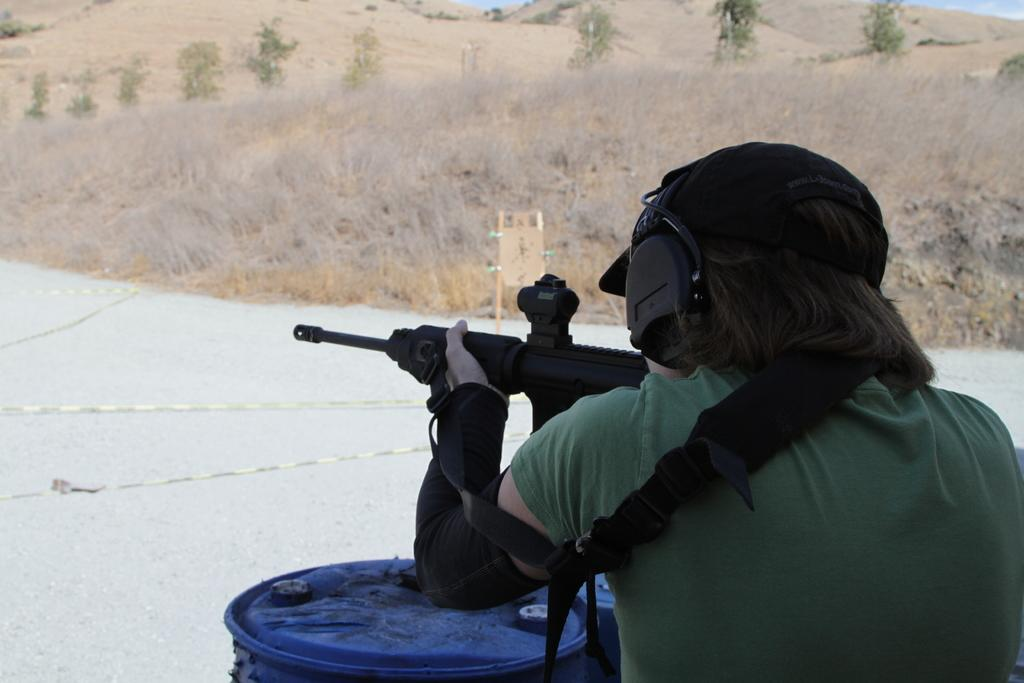Rifle: (295, 276, 650, 682)
